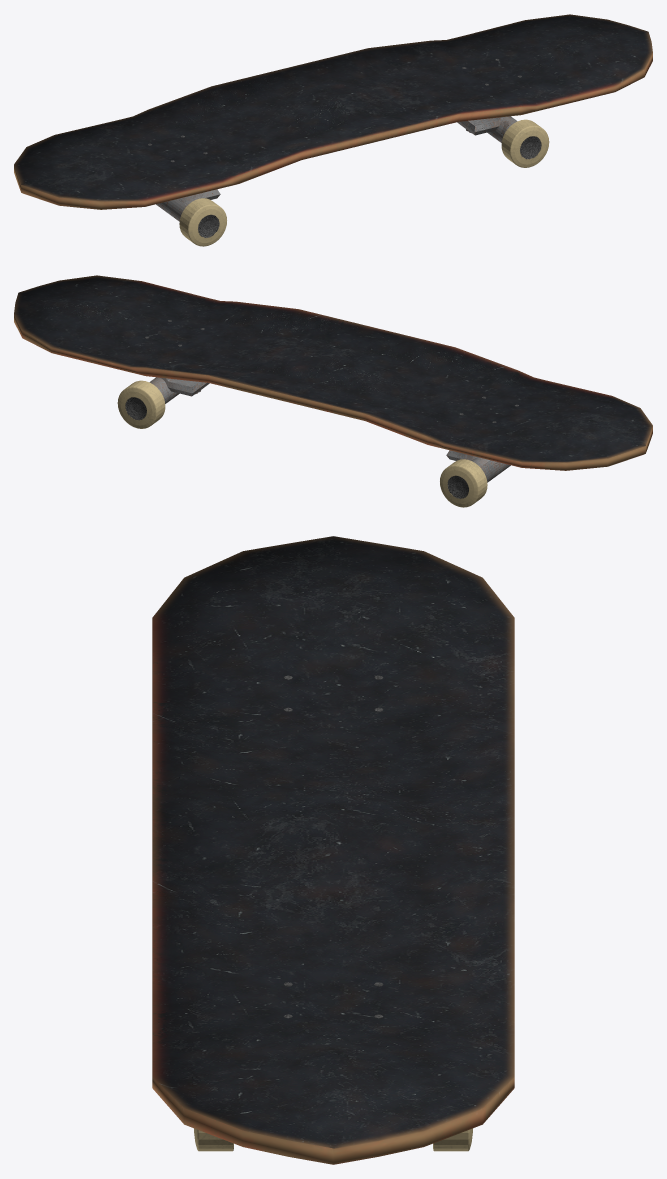
Rendered from SkateBoard.glb.
3 views of the same model, one above another, from view 1: azimuth 30°, elevation 25°; view 2: azimuth 150°, elevation 25°; view 3: azimuth 270°, elevation 25° (orthographic). The views are drawn at different scales.
Visible parts, largest first — view 1: Board, B_part2.002, F_Part2.003, F_Part1.005, B_part2.001; view 2: Board, B_part2, F_Part2.002, F_Part1.005, B_part2.001; view 3: Board.
Part boxes in pixels (x1=…): Board: x1=14, y1=14, x2=652, y2=209; B_part2.002: x1=179, y1=198, x2=226, y2=246; F_Part2.003: x1=501, y1=119, x2=549, y2=167; F_Part1.005: x1=457, y1=116, x2=505, y2=135; B_part2.001: x1=156, y1=196, x2=194, y2=221; Board: x1=14, y1=275, x2=652, y2=470; B_part2: x1=440, y1=459, x2=487, y2=507; F_Part2.002: x1=117, y1=380, x2=165, y2=428; F_Part1.005: x1=160, y1=377, x2=209, y2=396; B_part2.001: x1=472, y1=457, x2=510, y2=482; Board: x1=152, y1=536, x2=514, y2=1164.
Size of the model in its own units: 16 by 2.08 by 4.
1 material, 1 textured.
